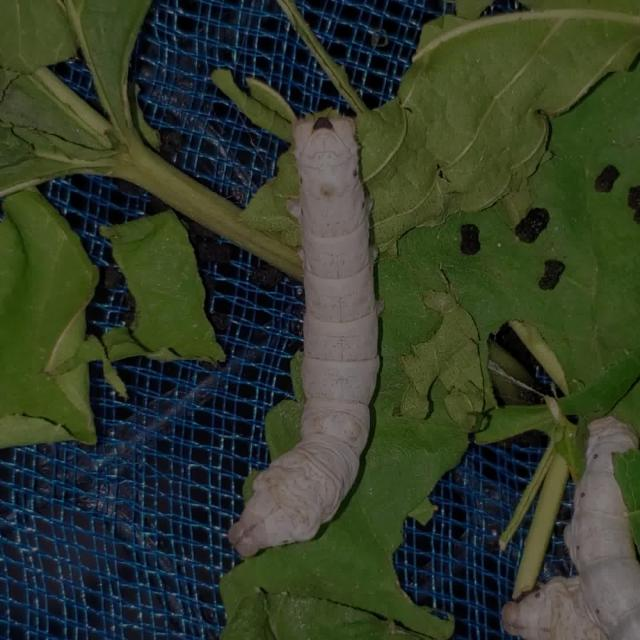Healthy: (218, 103, 408, 564)
